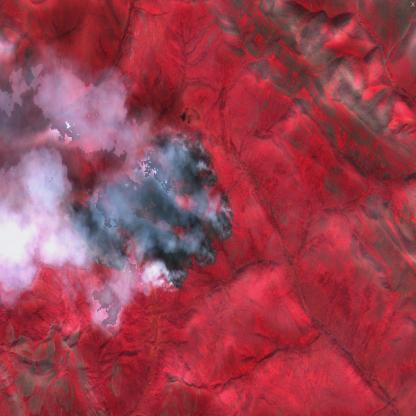fire: (62, 125, 235, 294)
